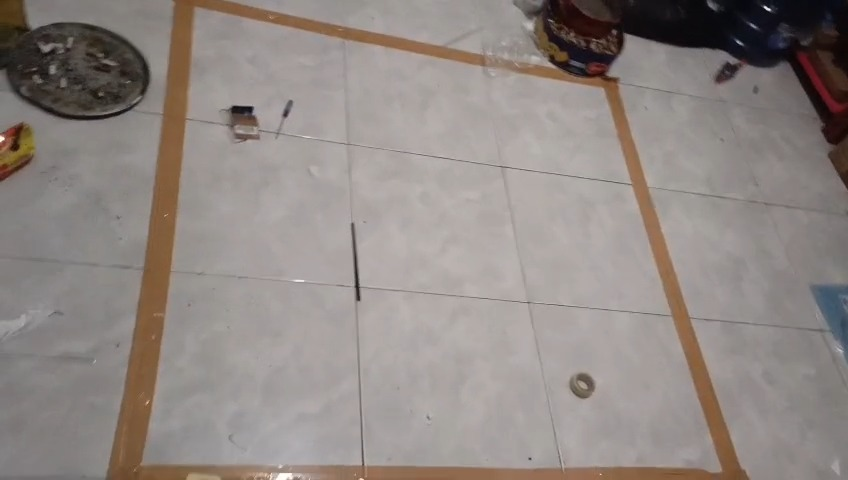floor marking: (108, 0, 747, 478)
